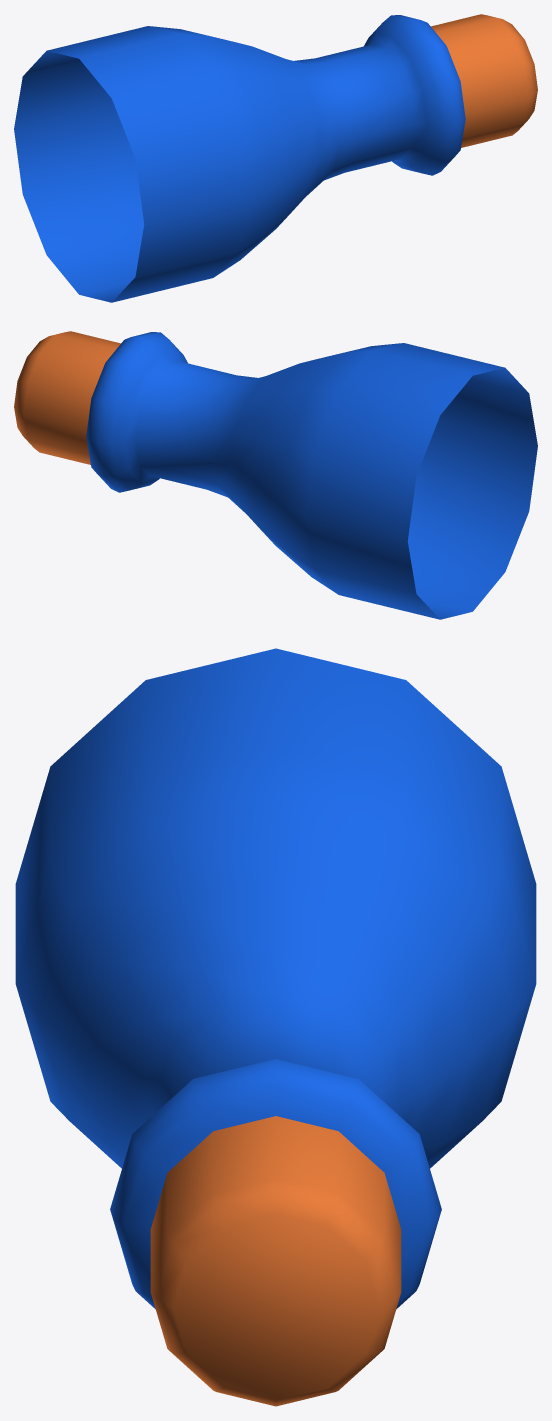
Rendered from Water_half_right.fbx.
3 views of the same model, one above another, from view 1: azimuth 30°, elevation 25°; view 2: azimuth 150°, elevation 25°; view 3: azimuth 270°, elevation 25° (orthographic). The views are drawn at different scales.
Visible parts, largest first — view 1: Circle.004; view 2: Circle.004; view 3: Circle.004.
Boxes of the visible parts, x1,y1,x2,y2 form: Circle.004: (14, 14, 537, 302); Circle.004: (14, 331, 537, 619); Circle.004: (15, 648, 536, 1406).
Bounding box in the file's own units: 61.52 × 32.04 × 32.04.
